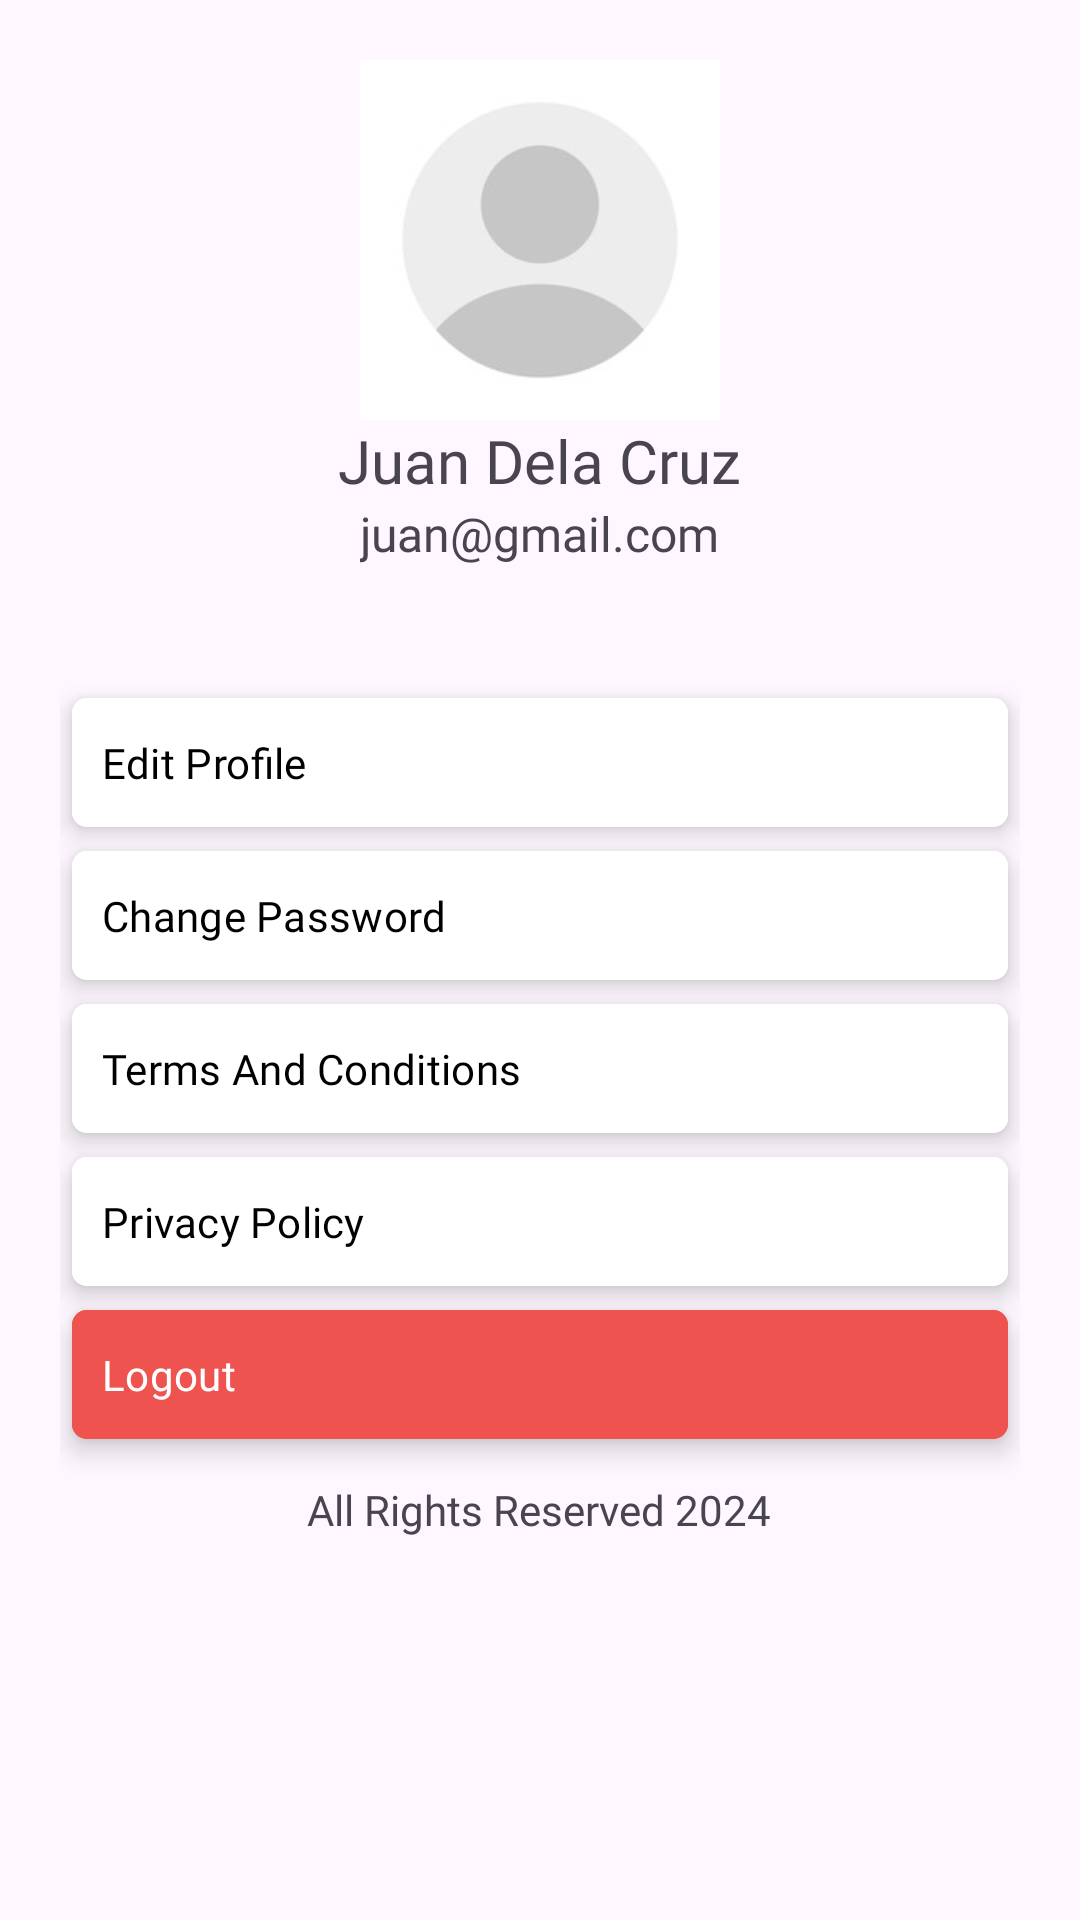

Locate icon controls on the screen. Image size 1080 × 1920, boxes as bbox=[x1, y1, x2, y2].
profiles: bbox=[436, 145, 644, 378]
